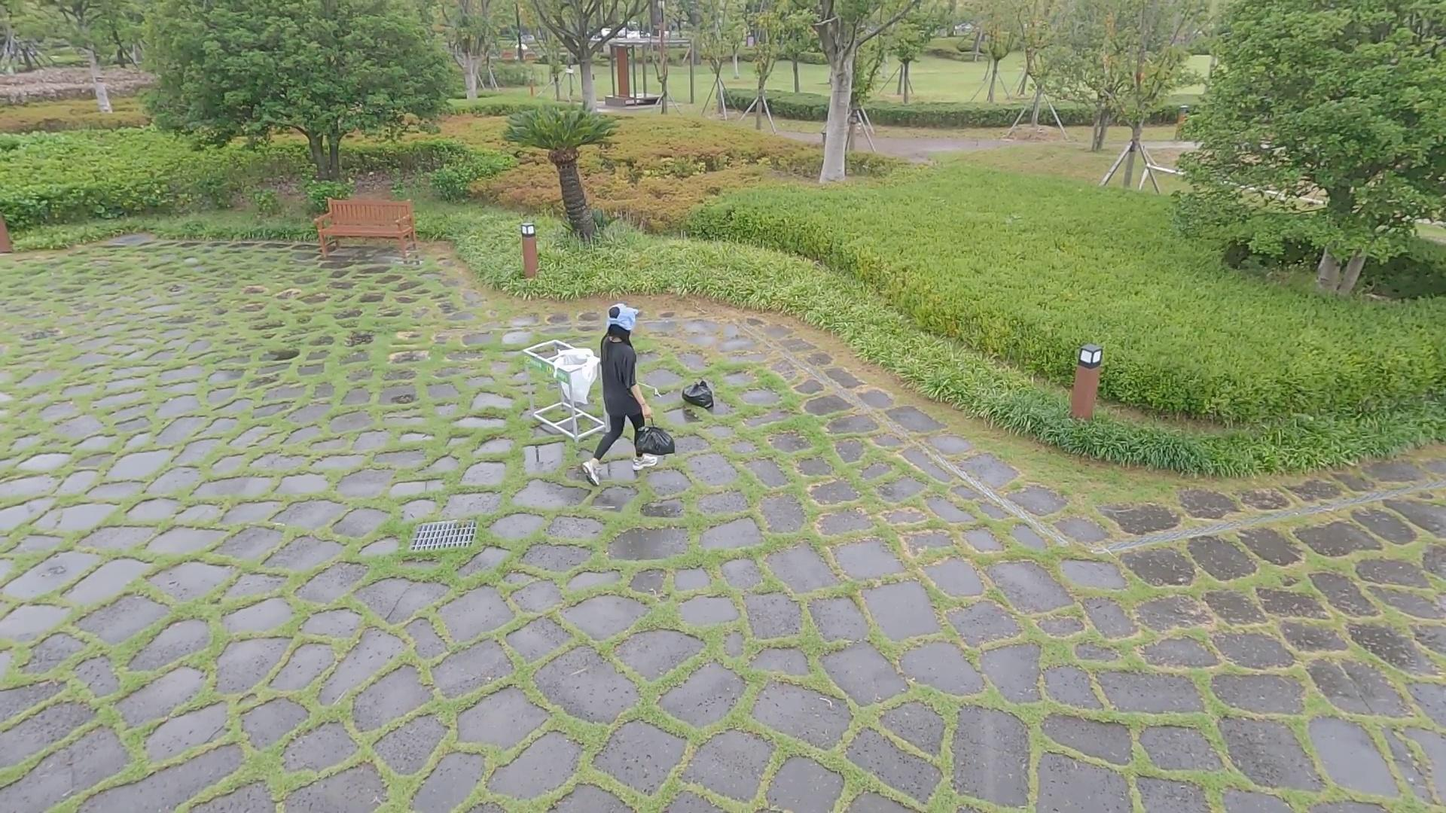person: (576, 304, 661, 488)
trash: (634, 415, 678, 456), (679, 375, 716, 413)
